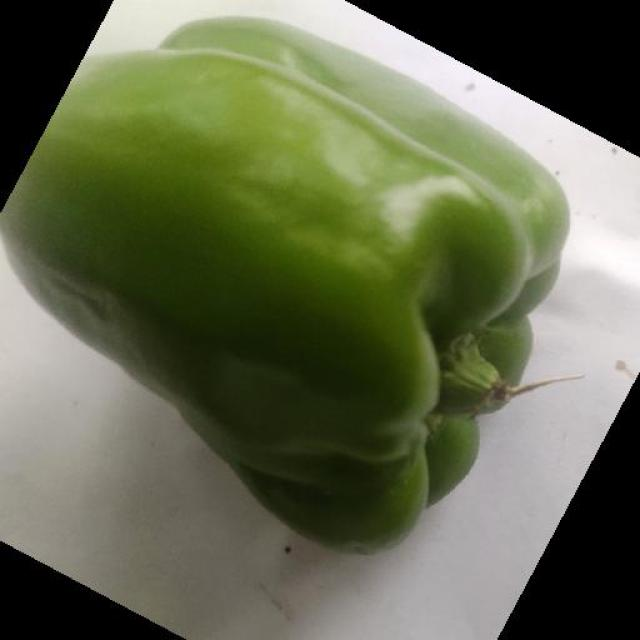Stale_Capsicum: (39, 254, 554, 607)
